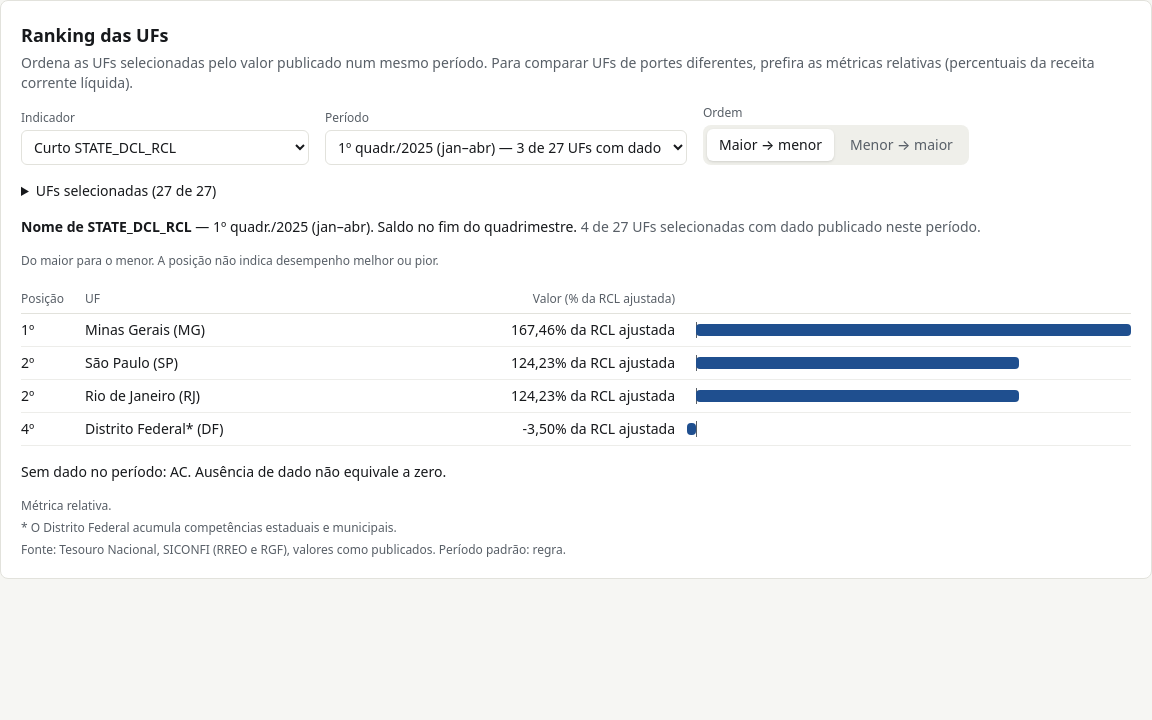
Test case: StateRankingPanel errors › never shows the previous ranking under a failed request
This screenshot has width=1152, height=720.
Expected: the table is shown, [21,285,1131,446]
Click the button "Menor → maior".
click(902, 145)  # box [838,129,965,161]
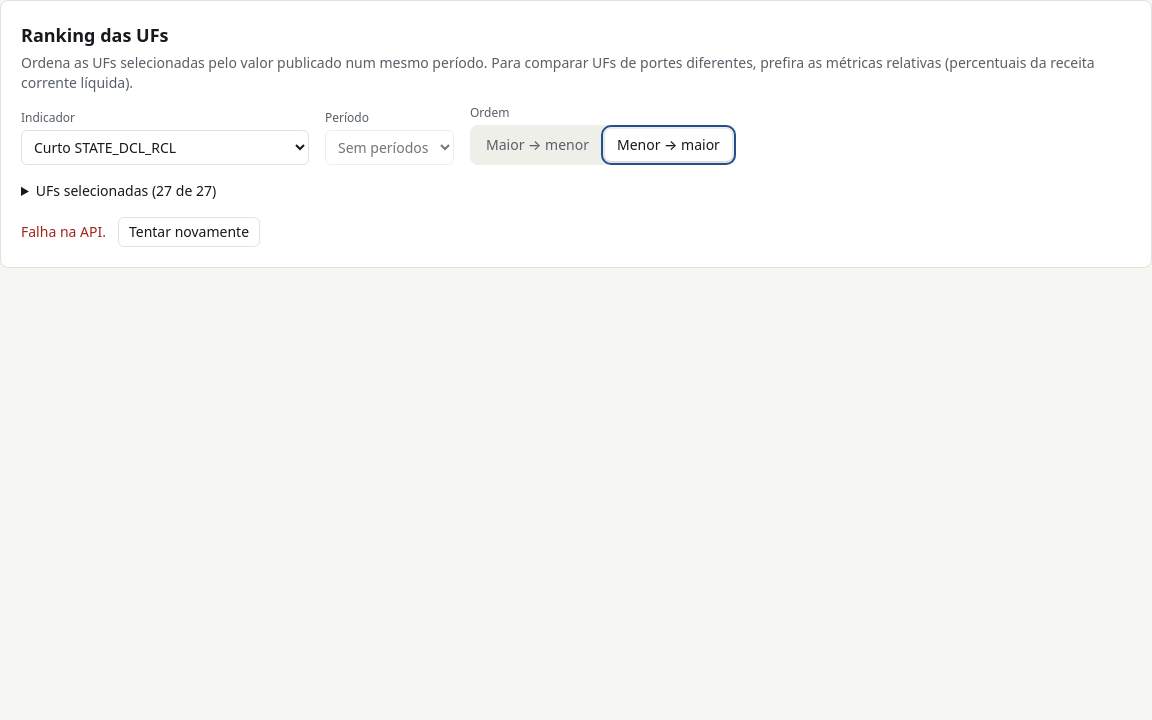
Expected: the text "Falha na API." is shown, [21,222,106,242]
Expected: the table is gone
Click the button "Tentar novamente".
click(189, 232)  # box [118,217,260,247]
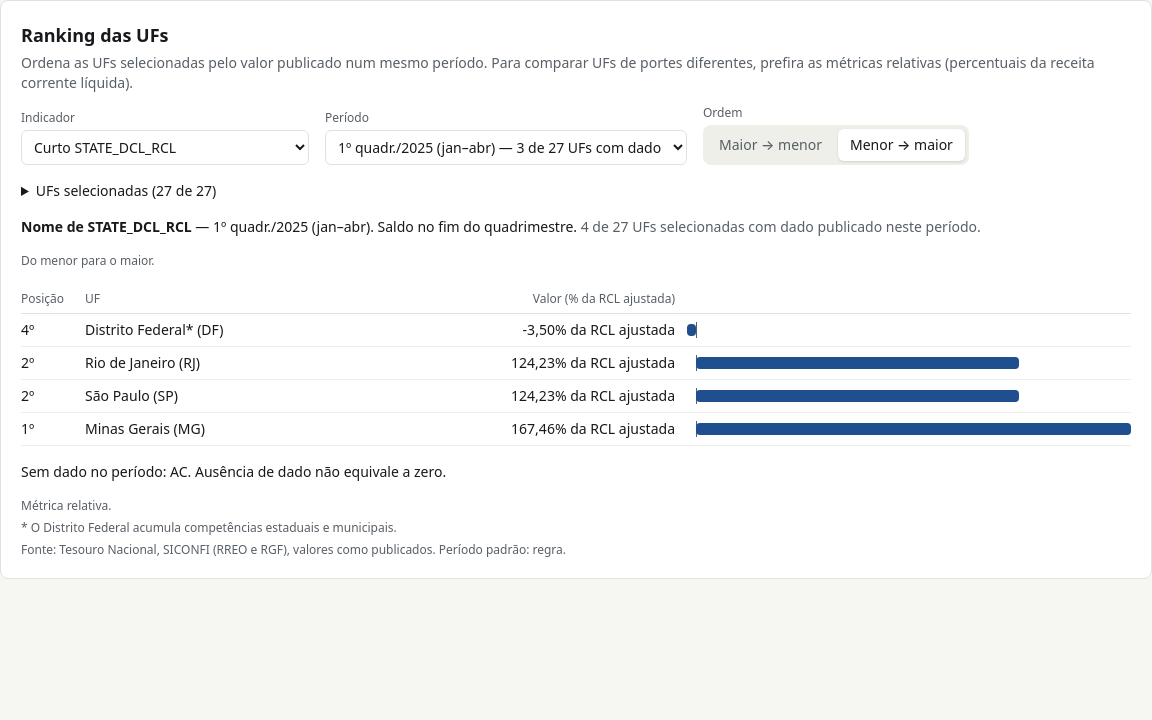
Expected: the table is shown, [21,285,1131,446]
